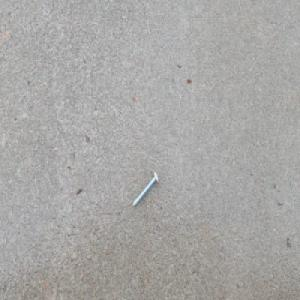Nail: (131, 169, 159, 208)
